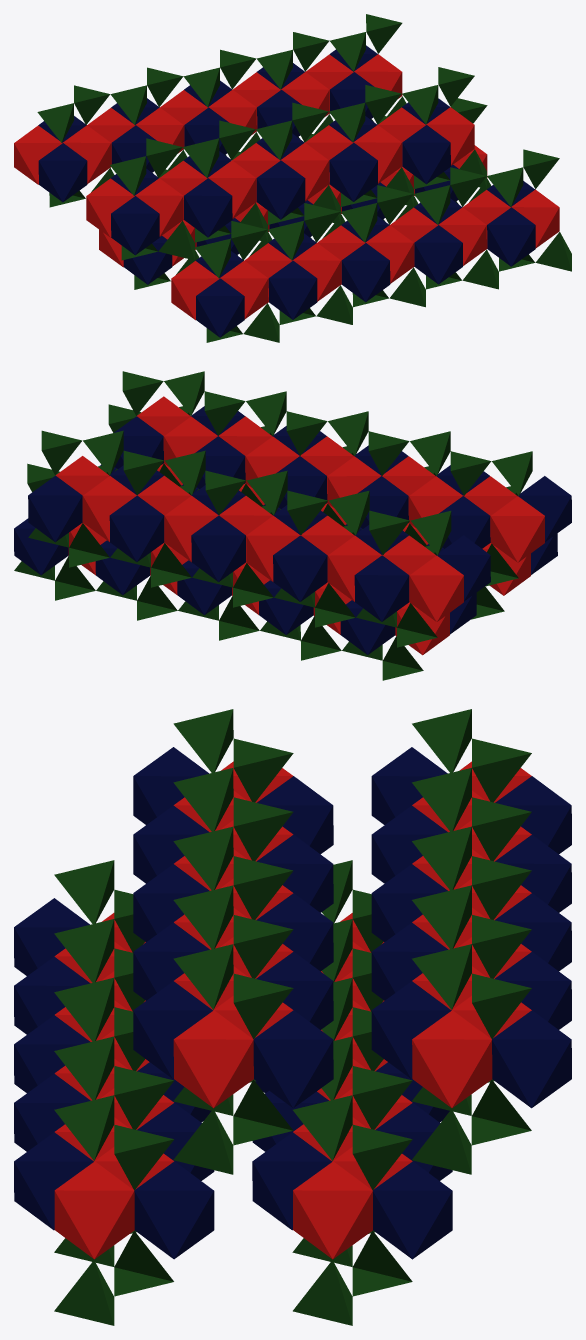
Rendered from Ortopiroxenio.obj.
3 renders of one model, top to bottom at view 1: azimuth 30°, elevation 25°; view 2: azimuth 150°, elevation 25°; view 3: azimuth 270°, elevation 25°, orthographic. The views are drawn at different scales.
Parts seen in each view (by area): view 1: Ortopiroxenio_full_Solid.071_Coordenacao6, Ortopiroxenio_full_Solid.071_tetraedros, Ortopiroxenio_full_Solid.071_Coordenacao_8; view 2: Ortopiroxenio_full_Solid.071_tetraedros, Ortopiroxenio_full_Solid.071_Coordenacao_8, Ortopiroxenio_full_Solid.071_Coordenacao6; view 3: Ortopiroxenio_full_Solid.071_Coordenacao_8, Ortopiroxenio_full_Solid.071_tetraedros, Ortopiroxenio_full_Solid.071_Coordenacao6.
Boxes of the visible parts, x1,y1,x2,y2 form: Ortopiroxenio_full_Solid.071_Coordenacao6: (14,54,559,320); Ortopiroxenio_full_Solid.071_tetraedros: (37,14,571,342); Ortopiroxenio_full_Solid.071_Coordenacao_8: (38,45,535,337); Ortopiroxenio_full_Solid.071_tetraedros: (14,371,532,680); Ortopiroxenio_full_Solid.071_Coordenacao_8: (14,406,571,654); Ortopiroxenio_full_Solid.071_Coordenacao6: (55,396,544,655); Ortopiroxenio_full_Solid.071_Coordenacao_8: (14,747,571,1259); Ortopiroxenio_full_Solid.071_tetraedros: (54,709,531,1325); Ortopiroxenio_full_Solid.071_Coordenacao6: (54,761,531,1259).
Size of the model in its own units: 1.98 by 0.7107 by 1.31.
